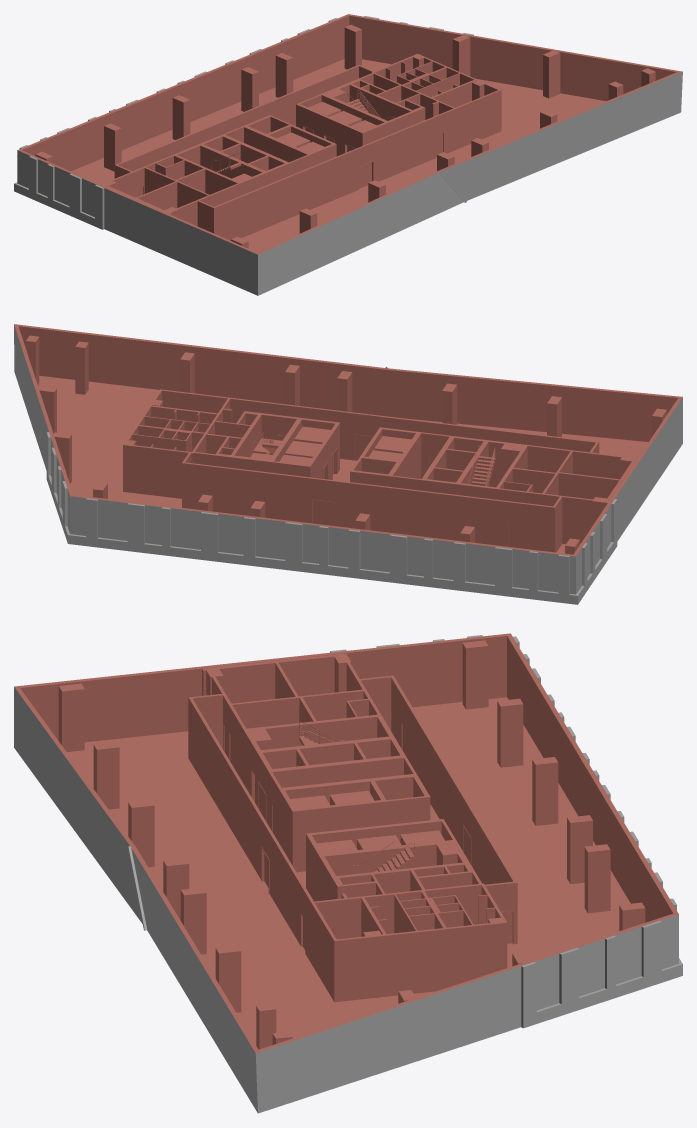
Rendered from JLL_Ruya_Region3DModels_Riyadh_Derived_HeroBuildings_Building 305_Floors_KSA_04_04105_B29_Floor_T1_10.fbx.
3 views of the same model, one above another, from view 1: azimuth 30°, elevation 25°; view 2: azimuth 150°, elevation 25°; view 3: azimuth 270°, elevation 25° (orthographic). The views are drawn at different scales.
Visible parts, largest first — view 1: KSA_04_04105_B29_Floor_T1_10; view 2: KSA_04_04105_B29_Floor_T1_10; view 3: KSA_04_04105_B29_Floor_T1_10.
Part boxes in pixels (x1=…): KSA_04_04105_B29_Floor_T1_10: x1=14, y1=14, x2=682, y2=295; KSA_04_04105_B29_Floor_T1_10: x1=14, y1=324, x2=682, y2=604; KSA_04_04105_B29_Floor_T1_10: x1=14, y1=633, x2=682, y2=1113.
Size of what is drawn, in the model's own units: 6038 by 508 by 4048.
